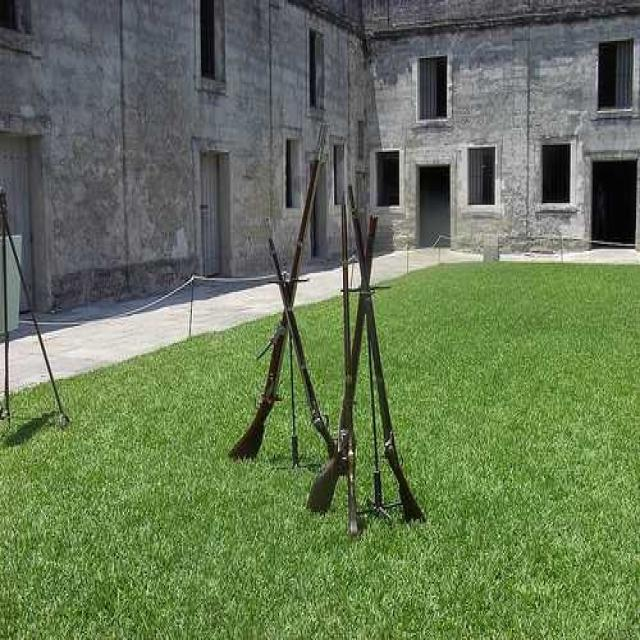heavyweapon: (211, 119, 336, 469), (299, 214, 402, 527)
